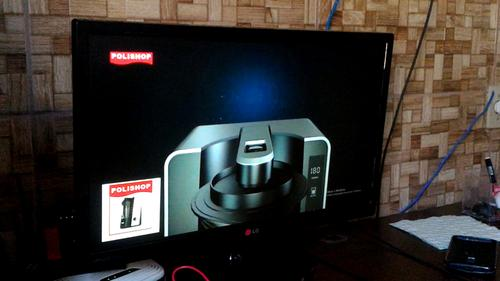Polishop #1: (101, 177, 161, 242)
